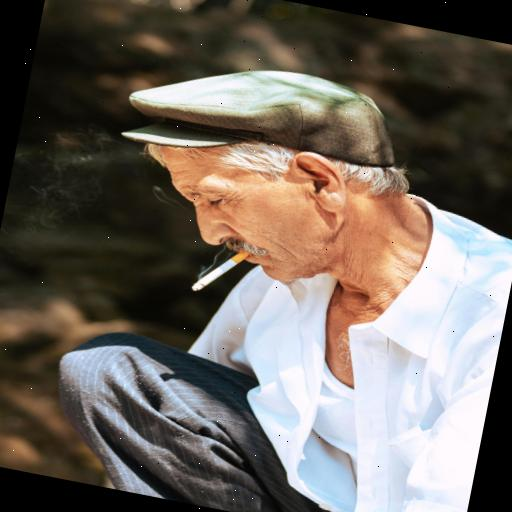terdeteksi merokok: (152, 152, 334, 326)
